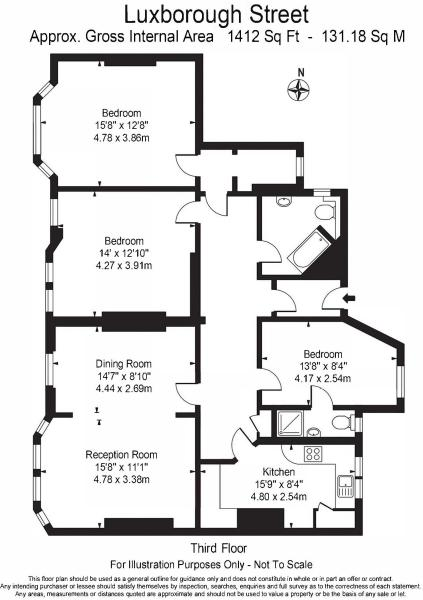GrossArea: (27, 25, 407, 48)
